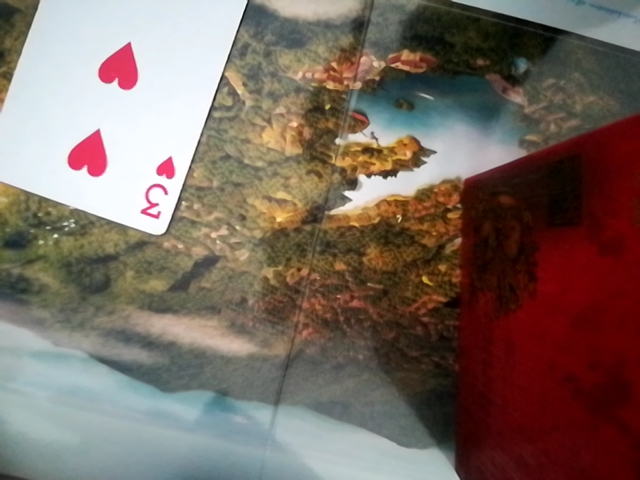hx 3: (0, 0, 268, 241)
